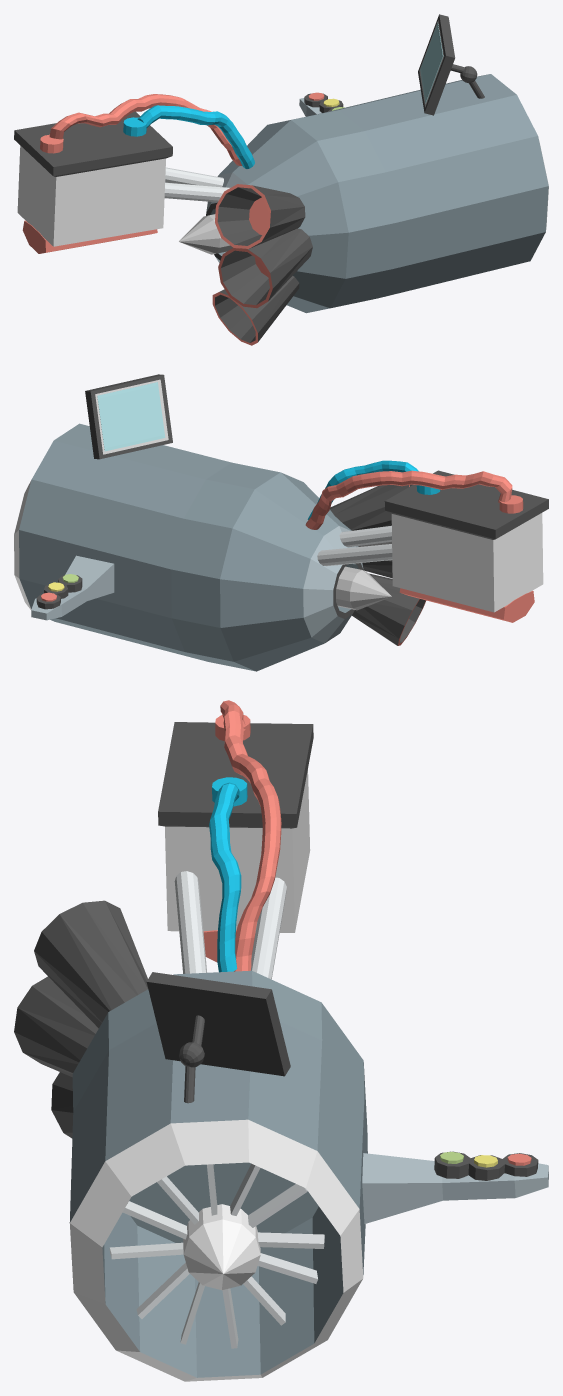
The model's file is concept_ult_fixed.fbx.
3 renders of one model, top to bottom at view 1: azimuth 30°, elevation 25°; view 2: azimuth 150°, elevation 25°; view 3: azimuth 270°, elevation 25°, orthographic. The views are drawn at different scales.
Parts seen in each view (by area): view 1: group_1859657988; view 2: group_1859657988; view 3: group_1859657988.
Part boxes in pixels (x1,y1,x2,y2): group_1859657988: [14, 14, 548, 345]; group_1859657988: [14, 374, 548, 671]; group_1859657988: [14, 700, 548, 1381].
Bounding box in the file's own units: 163 × 78.04 × 103.
